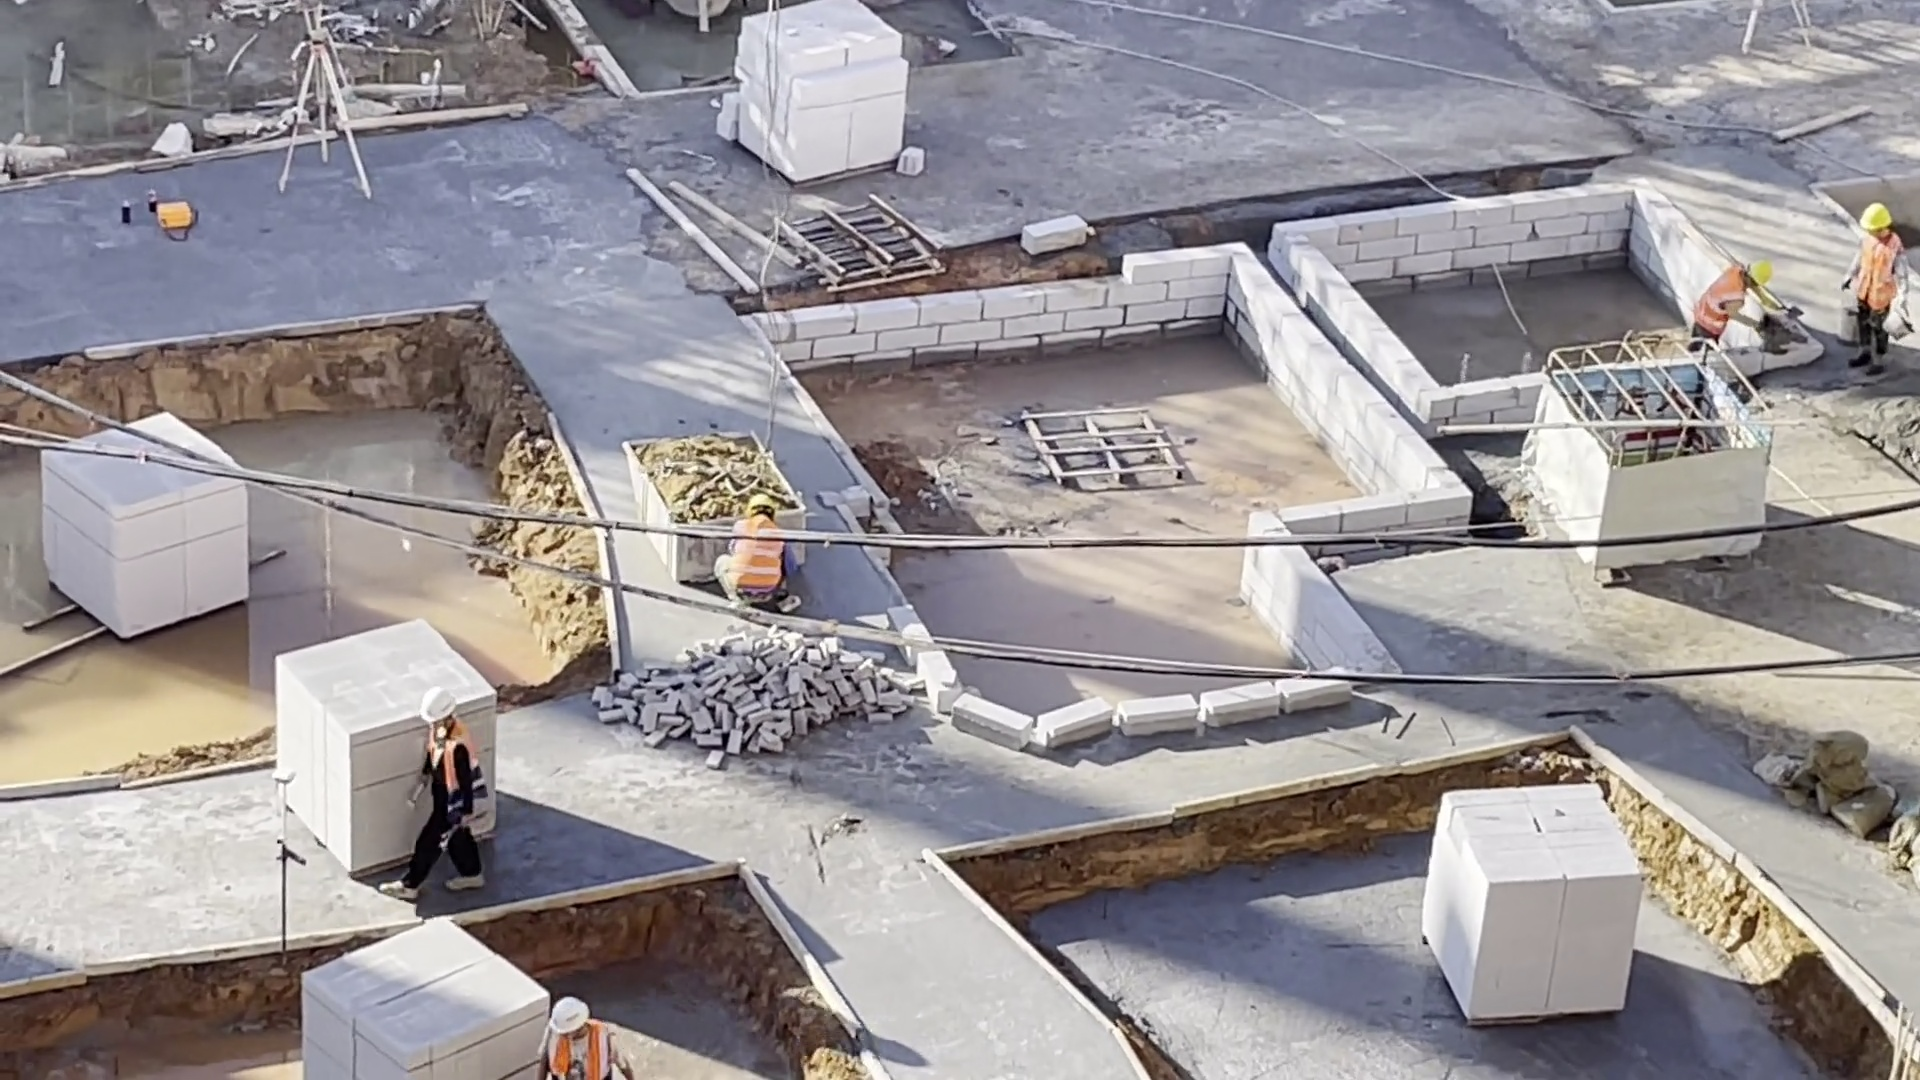brick: (1426, 785, 1643, 1026), (272, 608, 417, 882), (293, 922, 540, 1080), (30, 479, 260, 643), (730, 9, 908, 189)
helmet: (547, 995, 592, 1035), (417, 686, 460, 722), (1855, 203, 1894, 229), (1747, 257, 1775, 286), (743, 493, 777, 513)
hopper: (621, 435, 719, 582)
person: (377, 684, 492, 901), (1841, 202, 1912, 378), (526, 993, 634, 1080), (1686, 258, 1780, 349), (713, 535, 805, 616)
vest: (424, 726, 490, 812), (1853, 233, 1902, 310), (1693, 267, 1745, 335), (546, 1030, 614, 1080), (723, 539, 790, 590)
